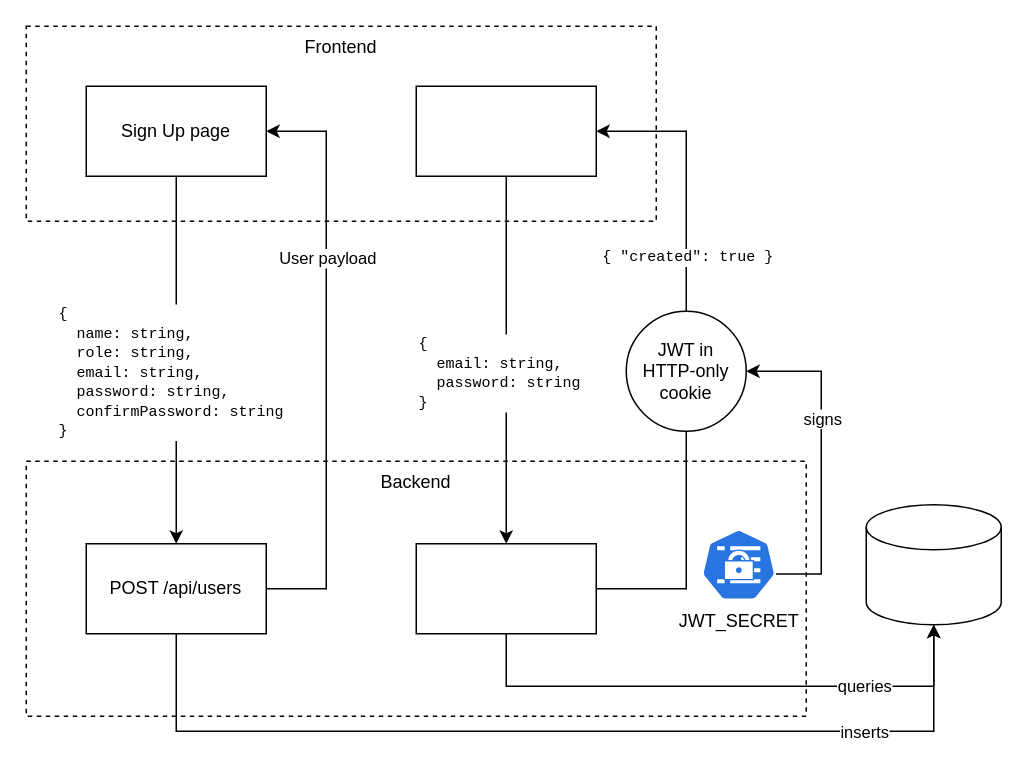
The diagram is 1028 pixels wide and 770 high, and some of its shapes have lost their labels. Here are the shapes that lost their labels. From the top down, the centre of each, then its label:
At [505,130]: "Login page".
At [933,564]: "MongoDB".
At [505,588]: "POST /api/sessions".
